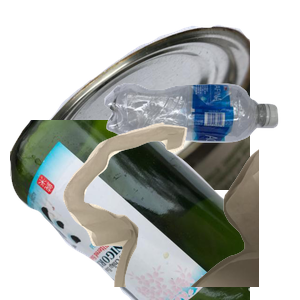glass: (10, 120, 250, 300)
metal: (19, 22, 259, 202)
plastic: (102, 81, 300, 216)
trash: (60, 120, 300, 300)
